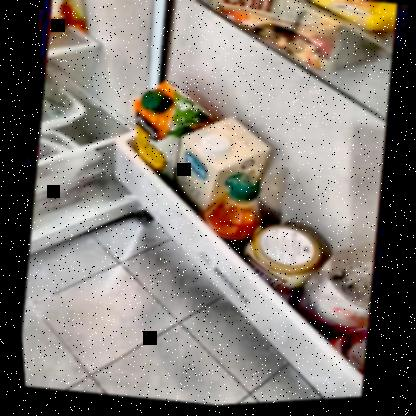milk: (169, 110, 242, 217)
